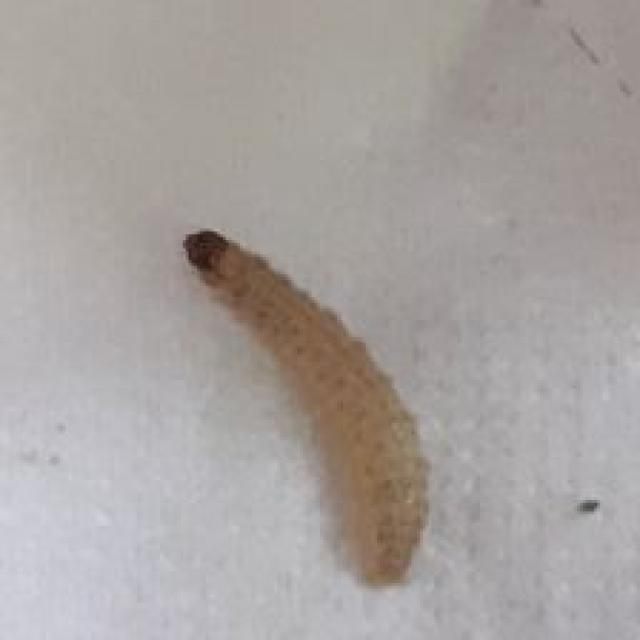white mucus: (153, 211, 457, 602)
